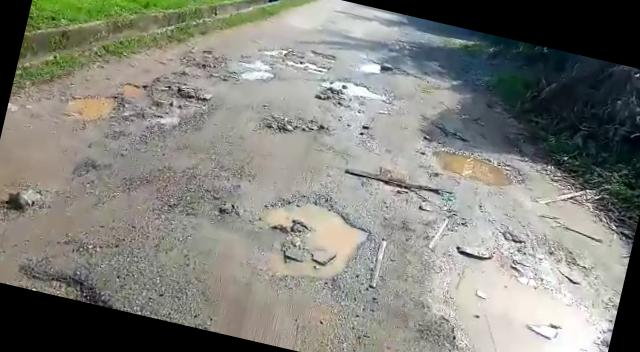pothole: (412, 254, 621, 352), (246, 188, 378, 296), (20, 264, 134, 312), (428, 142, 533, 192), (349, 167, 456, 212), (118, 72, 211, 122), (63, 85, 123, 127), (320, 74, 390, 106), (274, 50, 336, 77), (234, 57, 276, 84)
